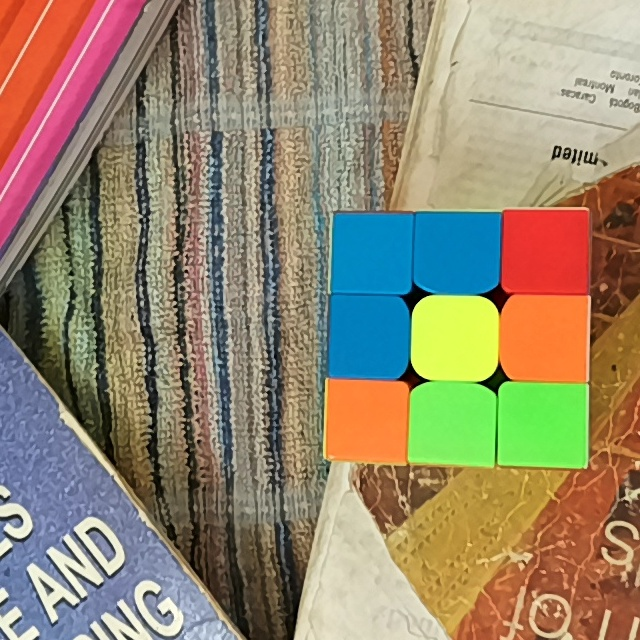tile: (505, 387, 583, 460), (510, 213, 584, 289), (510, 301, 583, 377), (331, 383, 402, 453), (420, 218, 493, 285), (337, 218, 408, 286), (416, 392, 490, 456), (335, 301, 402, 371), (423, 303, 490, 371)
